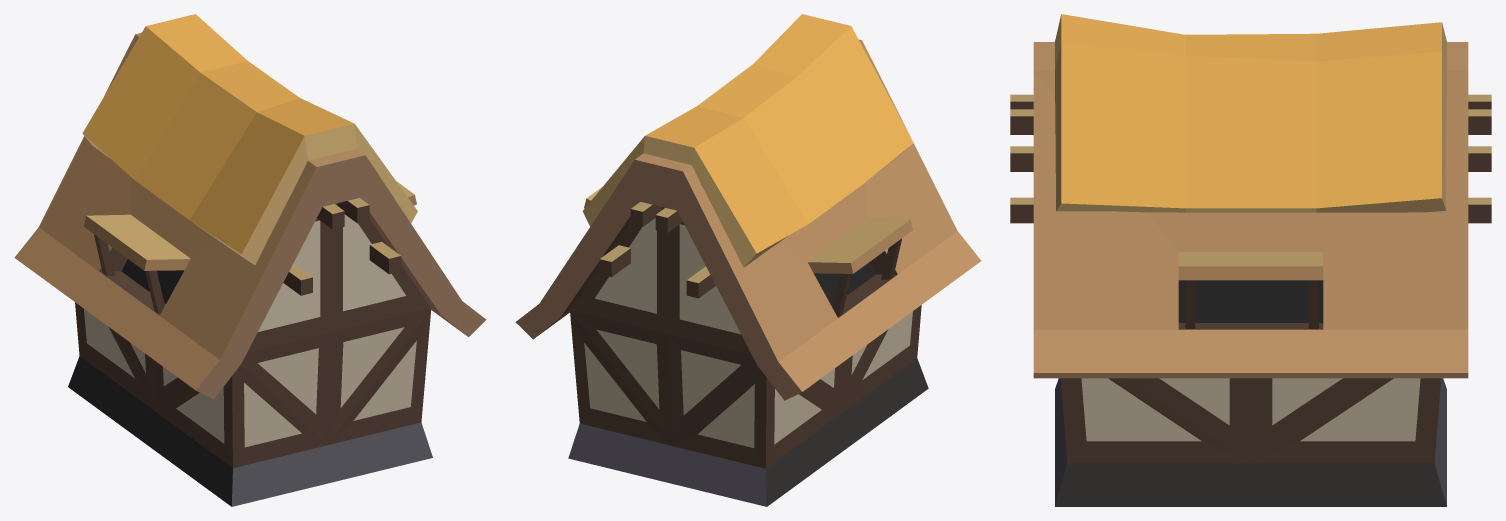
File: TB_Bd_House_Open.FBX
3 renders of one model, left to right at view 1: azimuth 30°, elevation 25°; view 2: azimuth 150°, elevation 25°; view 3: azimuth 270°, elevation 25°, orthographic. The views are drawn at different scales.
Parts seen in each view (by area): view 1: TB_Bd_House_Open; view 2: TB_Bd_House_Open; view 3: TB_Bd_House_Open.
Boxes of the visible parts, x1,y1,x2,y2 form: TB_Bd_House_Open: [14, 14, 486, 506]; TB_Bd_House_Open: [515, 14, 981, 506]; TB_Bd_House_Open: [1010, 14, 1491, 506].
Bounding box in the file's own units: 4.94 × 5.7 × 5.92.
